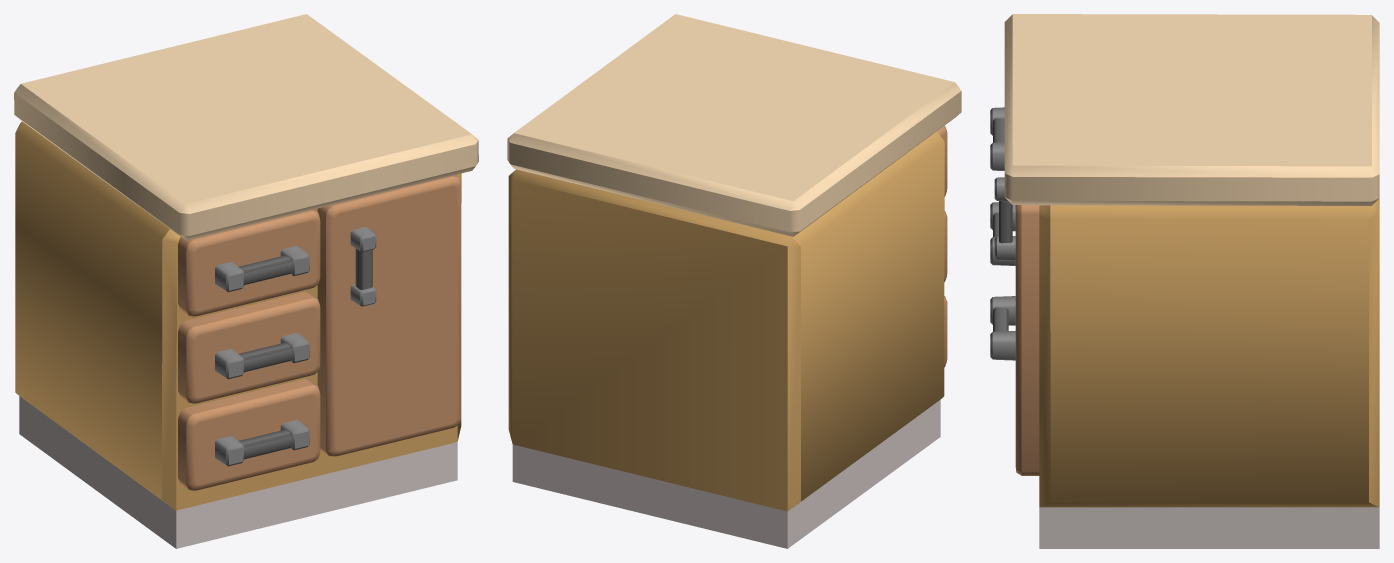
File: Furnit_B_4.glb
3 views of the same model, side by side, from view 1: azimuth 30°, elevation 25°; view 2: azimuth 150°, elevation 25°; view 3: azimuth 270°, elevation 25° (orthographic). The views are drawn at different scales.
Parts seen in each view (by area): view 1: Furnit_B_4; view 2: Furnit_B_4; view 3: Furnit_B_4.
Part boxes in pixels (x1,y1,x2,y2): Furnit_B_4: (14, 14, 478, 548); Furnit_B_4: (507, 14, 961, 548); Furnit_B_4: (990, 14, 1379, 548).
Size of the model in its own units: 0.9 by 1.02 by 0.9348.
1 material, 1 textured.
